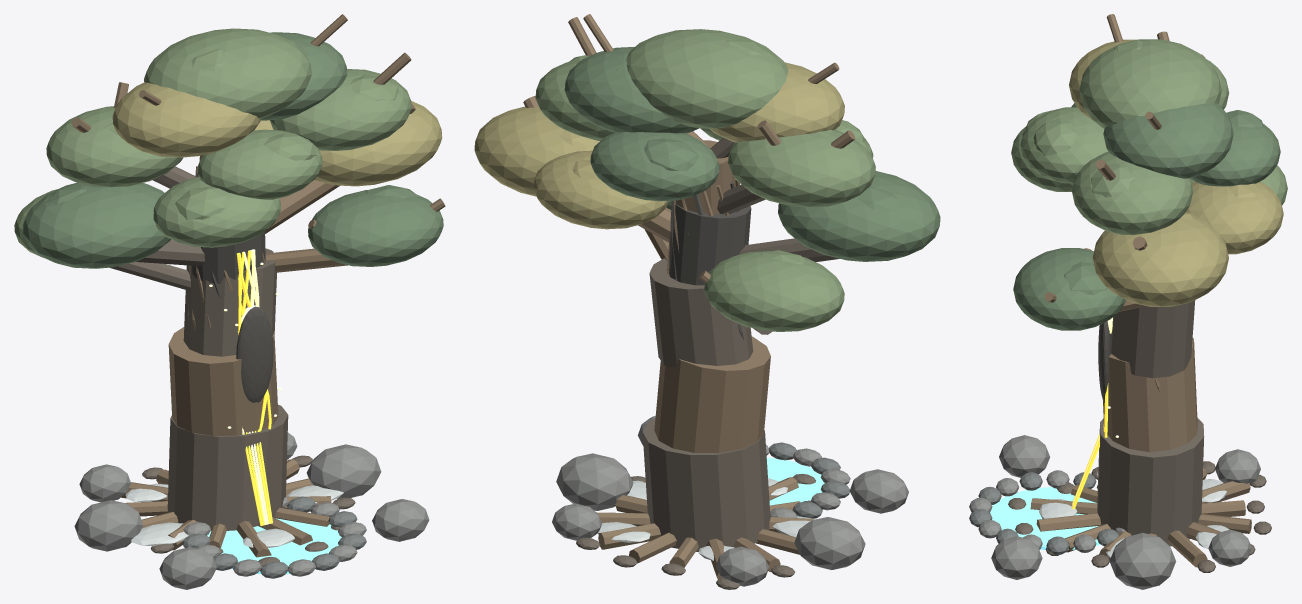
Rendered from Midgard_Hoddmimir_Holt_V2_YUP.glb.
3 renders of one model, left to right at view 1: azimuth 30°, elevation 25°; view 2: azimuth 150°, elevation 25°; view 3: azimuth 270°, elevation 25°, orthographic. The views are drawn at different scales.
Visible parts, largest first — view 1: Trunk_0, Crown_3, Crown_0, Crown_8, Crown_2, Trunk_1, Crown_1, Crown_5, Crown_11, Crown_6, Trunk_2, Crown_9 (+21 smaller); view 2: Crown_3, Trunk_0, Trunk_1, Crown_0, Crown_7, Crown_1, Trunk_2, Crown_12, Crown_4, Crown_6, Crown_10, Crown_2 (+17 smaller); view 3: Trunk_0, Crown_6, Crown_3, Trunk_1, Crown_4, Crown_5, Crown_8, Trunk_2, Crown_10, Crown_11, Crown_12, Rock_1 (+20 smaller).
Boxes of the visible parts, box(x1,y1,x2,y2) form: Trunk_0: box(167, 404, 288, 530); Crown_3: box(144, 28, 311, 118); Crown_0: box(22, 183, 170, 268); Crown_8: box(308, 190, 443, 266); Crown_2: box(112, 82, 260, 157); Trunk_1: box(168, 327, 278, 435); Crown_1: box(46, 106, 182, 187); Crown_5: box(270, 69, 411, 150); Crown_11: box(197, 129, 322, 199); Crown_6: box(314, 101, 442, 186); Trunk_2: box(183, 248, 276, 356); Crown_9: box(153, 176, 280, 247); Crown_3: box(626, 29, 788, 128); Trunk_0: box(642, 418, 770, 551); Trunk_1: box(654, 336, 770, 453); Crown_0: box(778, 171, 940, 261); Crown_7: box(704, 251, 844, 331); Crown_1: box(728, 129, 875, 207); Trunk_2: box(649, 258, 753, 367); Crown_12: box(590, 132, 719, 201); Crown_4: box(564, 47, 699, 133); Crown_6: box(474, 106, 599, 196); Crown_10: box(533, 150, 668, 229); Crown_2: box(709, 62, 844, 142); Trunk_0: box(1097, 417, 1204, 546); Crown_6: box(1092, 212, 1228, 306); Crown_3: box(1079, 39, 1221, 128); Trunk_1: box(1103, 338, 1197, 452); Crown_4: box(1103, 103, 1233, 178); Crown_5: box(1072, 151, 1193, 234); Crown_8: box(1013, 248, 1125, 330); Trunk_2: box(1111, 300, 1195, 378); Crown_10: box(1186, 181, 1283, 254); Crown_11: box(1020, 107, 1108, 183); Crown_12: box(1190, 123, 1280, 186); Rock_1: box(1109, 532, 1176, 589).
Bounding box in the file's own units: 18.75 × 20.45 × 12.4.
